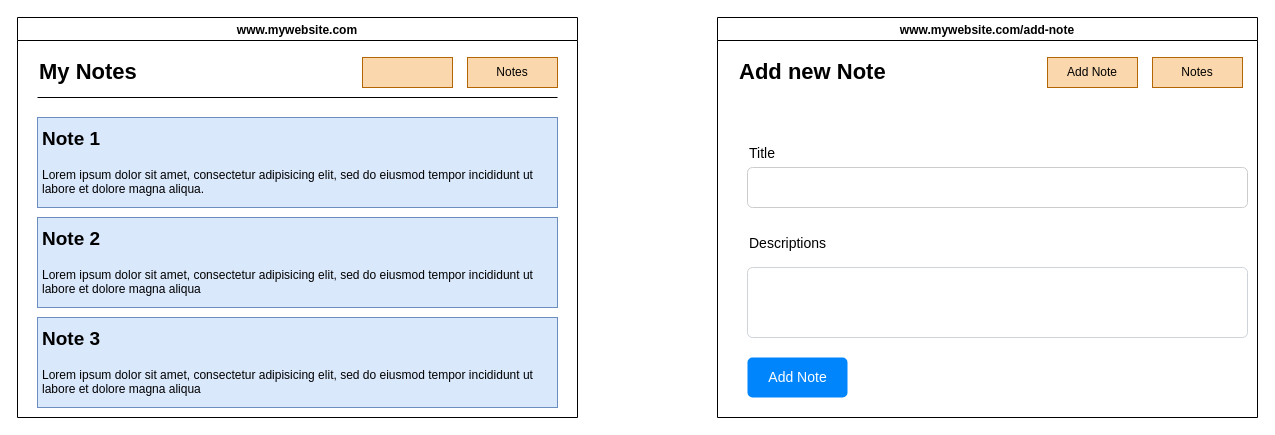
Some shapes in this 1275 by 435 pixel diagram are drawn without their labels. The centre of each missing label's shape, as x and y in pixels:
"Add Notes" goes at [407,72].
"Note Title" goes at [997,187].
